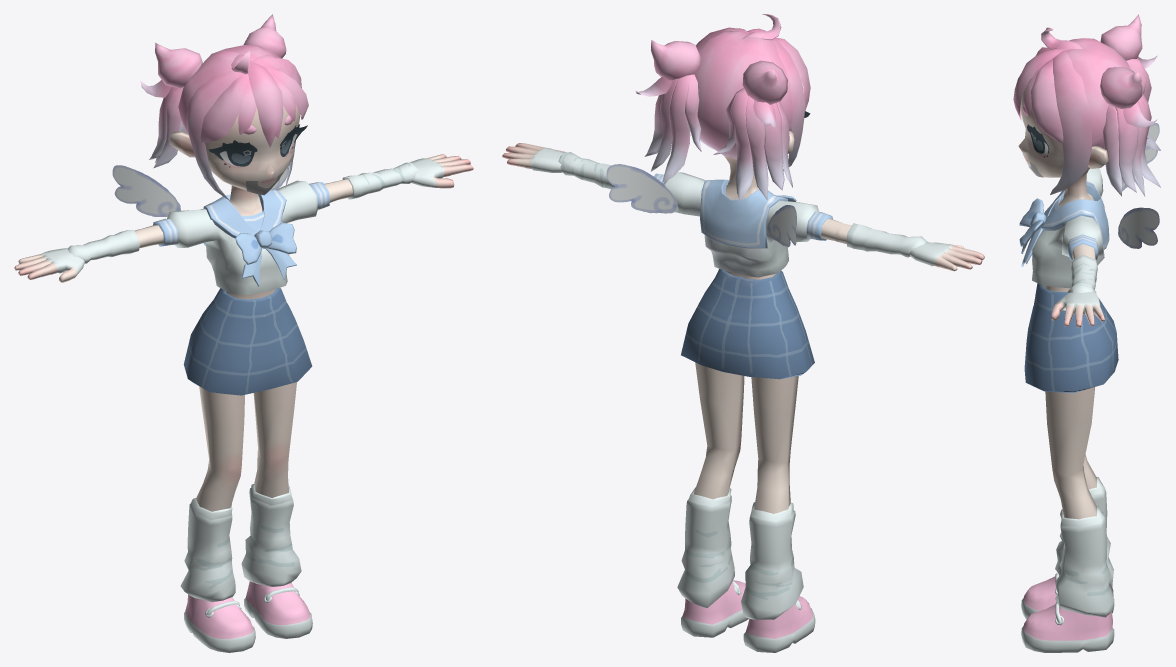
The model's file is Toska Unwrapped embedded FBX.fbx.
3 renders of one model, left to right at view 1: azimuth 30°, elevation 25°; view 2: azimuth 150°, elevation 25°; view 3: azimuth 270°, elevation 25°, orthographic. The views are drawn at different scales.
Visible parts, largest first — view 1: Toska1; view 2: Toska1; view 3: Toska1.
Part boxes in pixels (bbox=[...]): Toska1: bbox=[14, 14, 473, 652]; Toska1: bbox=[502, 14, 984, 652]; Toska1: bbox=[1013, 14, 1160, 652].
Size of the model in its own units: 6.32 by 7.81 by 1.76.
5 materials, 5 textured.
